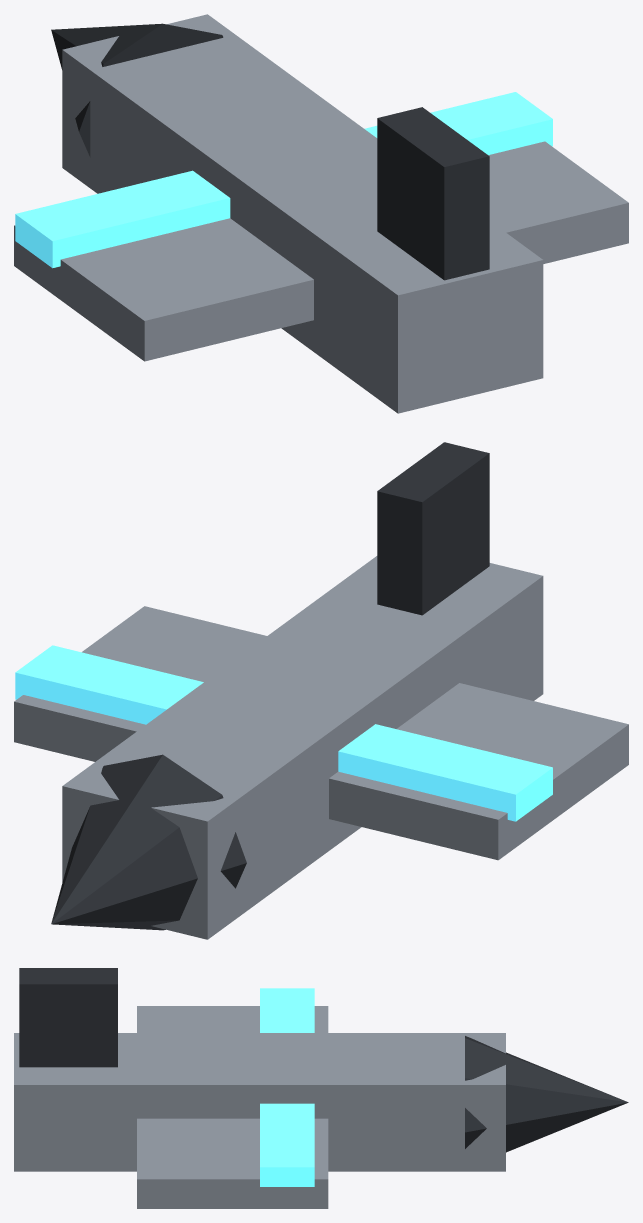
File: troyden_strike_fighter.glb
The picture shows the model from 3 angles, top to bottom: view 1: azimuth 30°, elevation 25°; view 2: azimuth 150°, elevation 25°; view 3: azimuth 270°, elevation 25°; orthographic projection. The views are drawn at different scales.
Parts seen in each view (by area): view 1: hull; view 2: hull; view 3: hull.
Boxes of the visible parts, x1,y1,x2,y2 form: hull: (14,14,628,413); hull: (14,442,628,939); hull: (14,968,628,1208).
Size of the model in its own units: 8.06 by 4 by 11.7.
